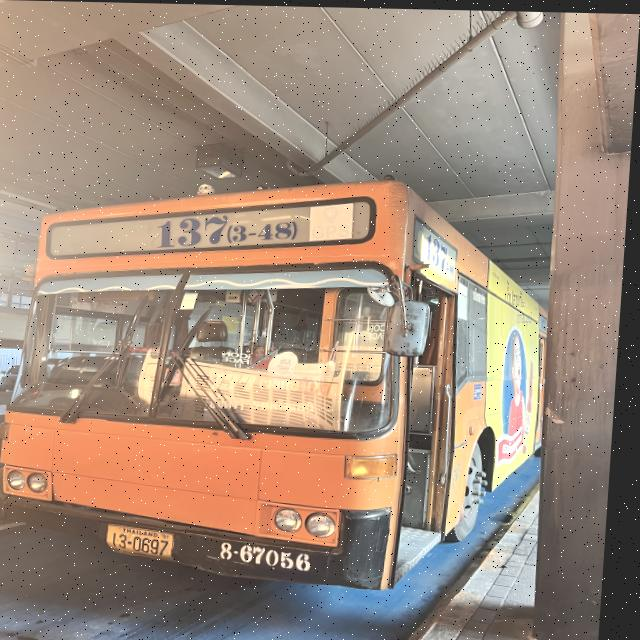BMTA-bus: (4, 179, 550, 592)
Bus Line Number: (150, 207, 306, 251)
Bus Side Number: (212, 538, 324, 574)
Destination Sign: (213, 367, 342, 425)
